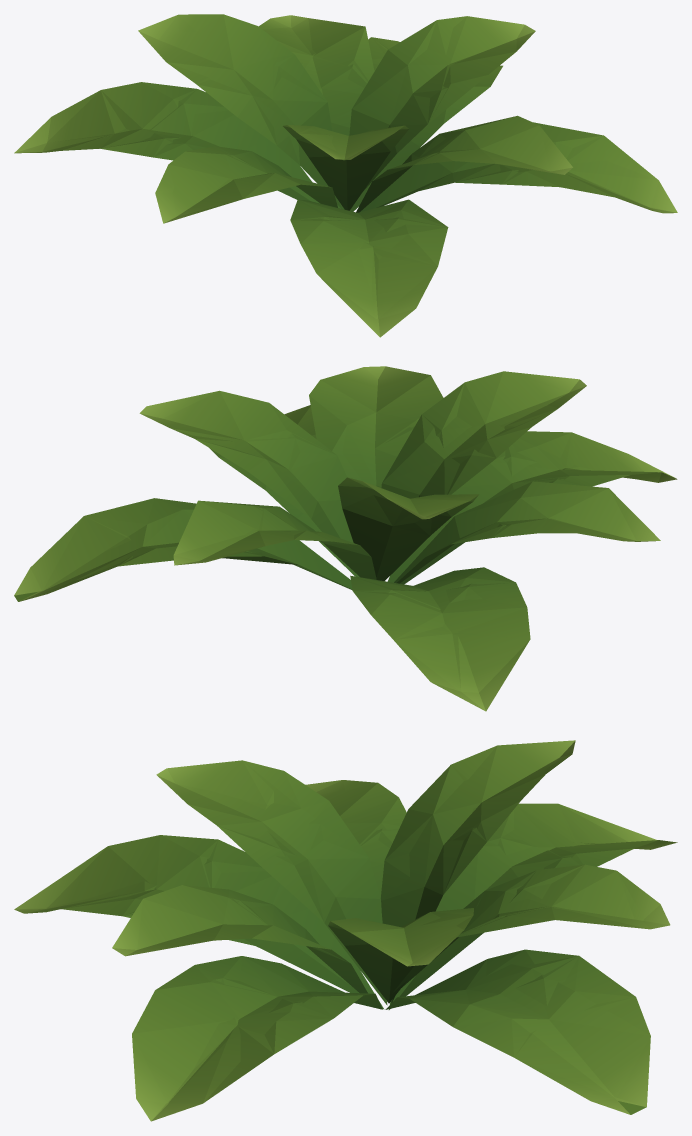
Rendered from Plant_03.fbx.
3 views of the same model, one above another, from view 1: azimuth 30°, elevation 25°; view 2: azimuth 150°, elevation 25°; view 3: azimuth 270°, elevation 25° (orthographic). The views are drawn at different scales.
Parts seen in each view (by area): view 1: Plant_03; view 2: Plant_03; view 3: Plant_03.
Boxes of the visible parts, x1,y1,x2,y2 form: Plant_03: (14, 14, 677, 337); Plant_03: (14, 366, 677, 711); Plant_03: (14, 740, 677, 1121).
Size of the model in its own units: 1.64 by 0.5894 by 1.72.
